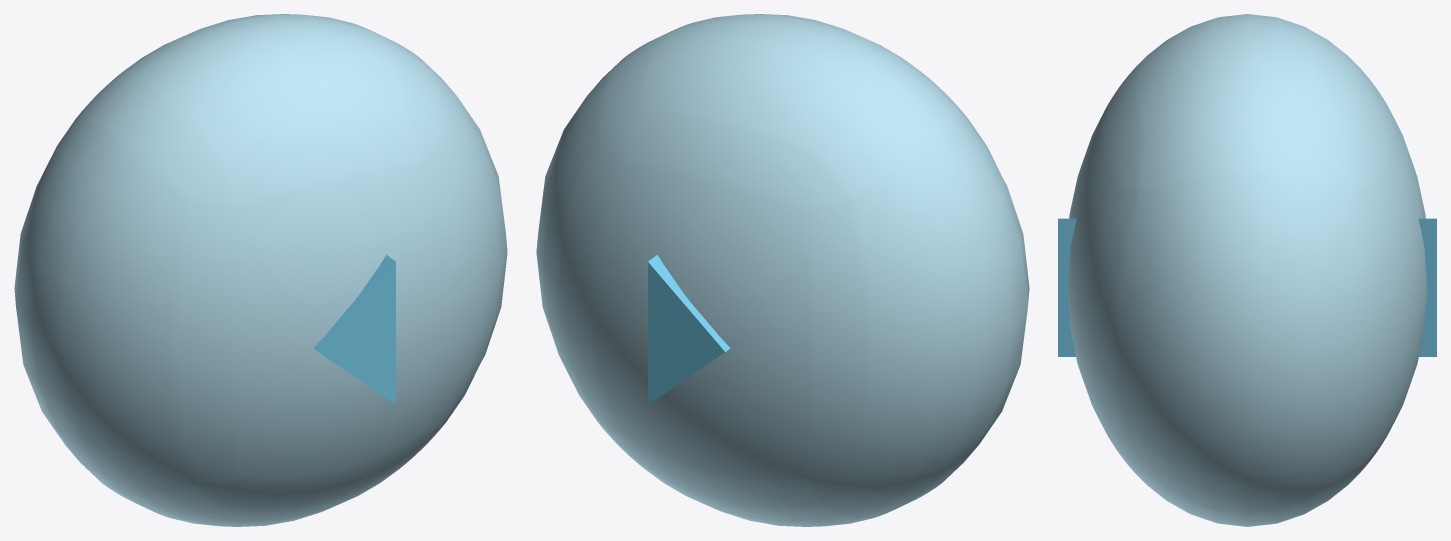
Rendered from play_button_animation_frame19.fbx.
3 renders of one model, left to right at view 1: azimuth 30°, elevation 25°; view 2: azimuth 150°, elevation 25°; view 3: azimuth 270°, elevation 25°, orthographic. The views are drawn at different scales.
Visible parts, largest first — view 1: Button, Triangle; view 2: Button, Triangle; view 3: Button, Triangle.
Boxes of the visible parts, bbox=[...] form: Button: bbox=[14, 14, 507, 526]; Triangle: bbox=[313, 255, 395, 404]; Button: bbox=[536, 14, 1029, 526]; Triangle: bbox=[648, 255, 730, 404]; Button: bbox=[1067, 14, 1427, 526]; Triangle: bbox=[1058, 218, 1436, 356].
Size of the model in its own units: 330 by 332 by 245.
